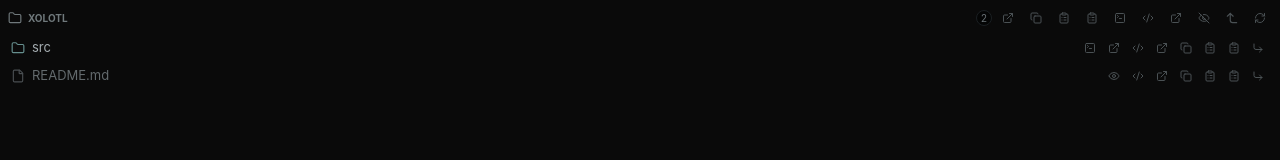
it: DirectoryBrowser › shows recovery guidance when opening a folder in the external terminal fails
This screenshot has width=1280, height=160.
Click the button named "Open src in external terminal": (1114, 48) [1103,37,1125,59]
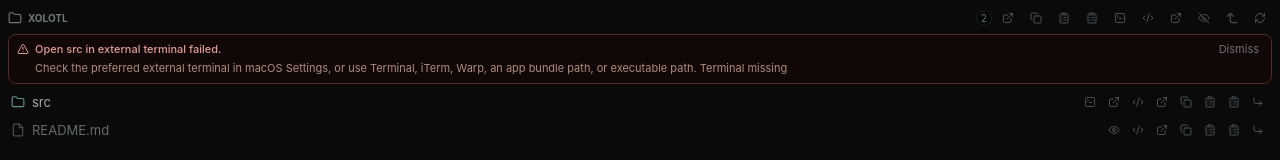
expect the text "Open src in external terminal failed." is shown: met, box [35,42,221,56]
expect the text "Terminal missing" is shown: met, box [35,60,787,74]
